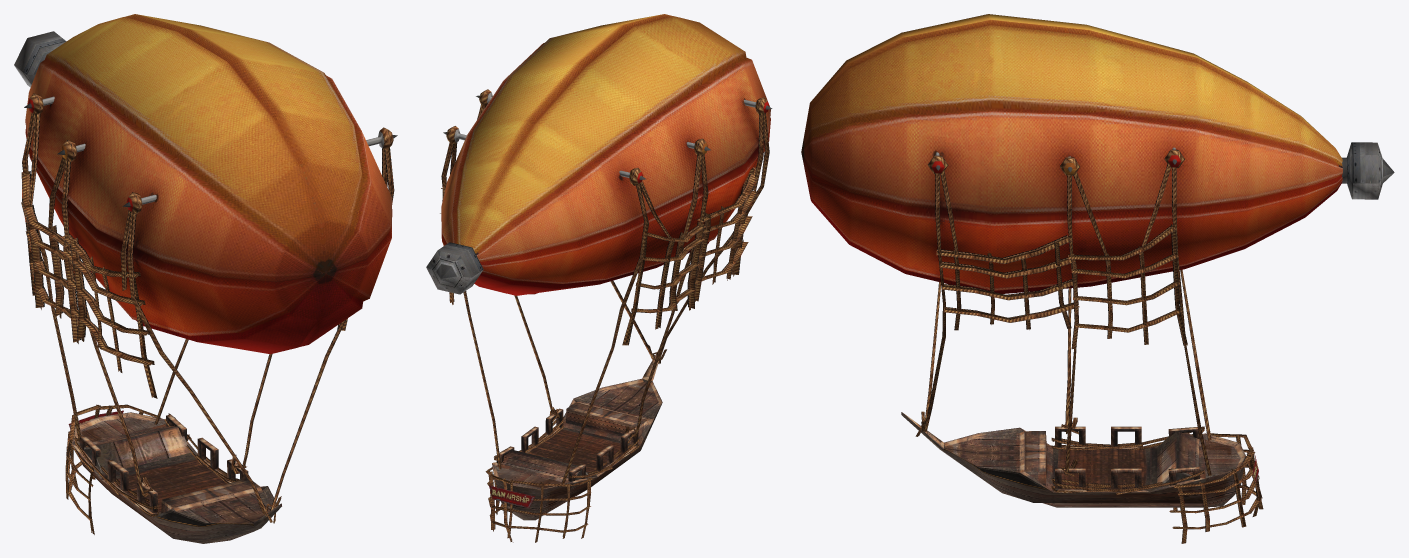
Rendered from board_airship.glb.
3 renders of one model, left to right at view 1: azimuth 30°, elevation 25°; view 2: azimuth 150°, elevation 25°; view 3: azimuth 270°, elevation 25°, orthographic. The views are drawn at different scales.
Visible parts, largest first — view 1: board_airship; view 2: board_airship; view 3: board_airship.
Part boxes in pixels (box(x1,y1,x2,y2)): board_airship: box(14, 14, 397, 543); board_airship: box(426, 14, 772, 542); board_airship: box(801, 14, 1394, 543).
Size of the model in its own units: 43.3 by 76.6 by 81.08.
1 material, 1 textured.
